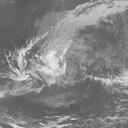cyclone: (26, 34, 80, 88)
